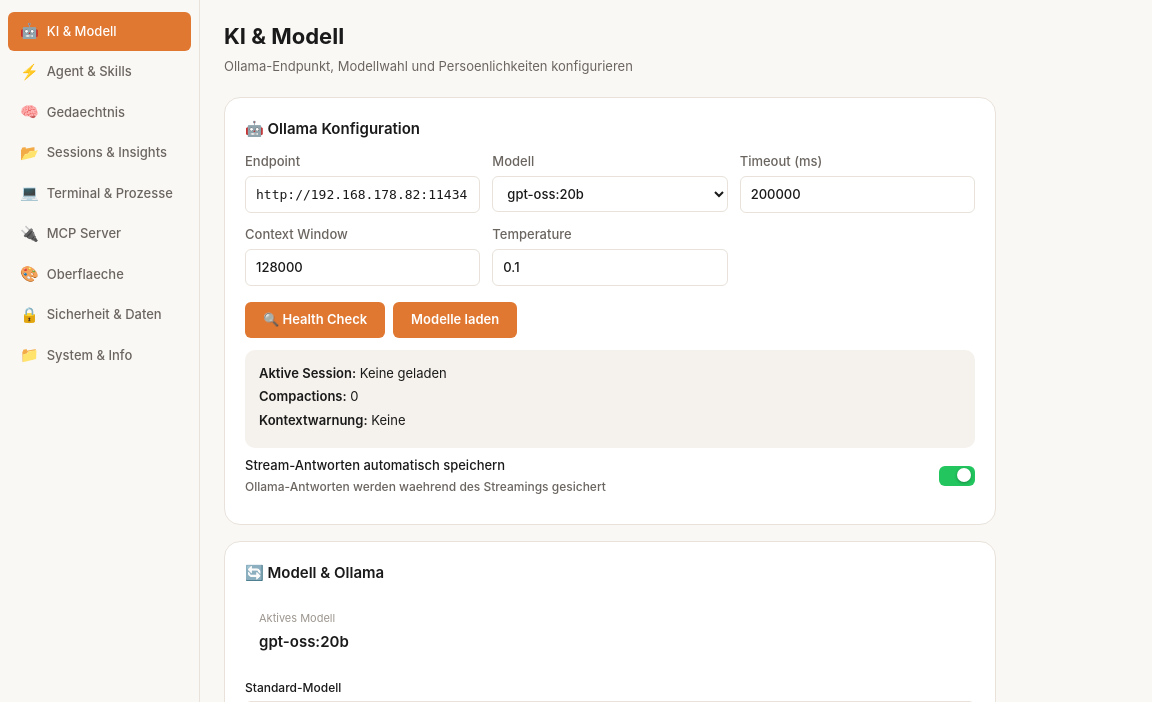
SettingsView › switches to Oberflaeche category
The width and height of the screenshot is (1152, 702).
Click the text "Oberflaeche". click: (85, 274)
box: [47,264,124,284]
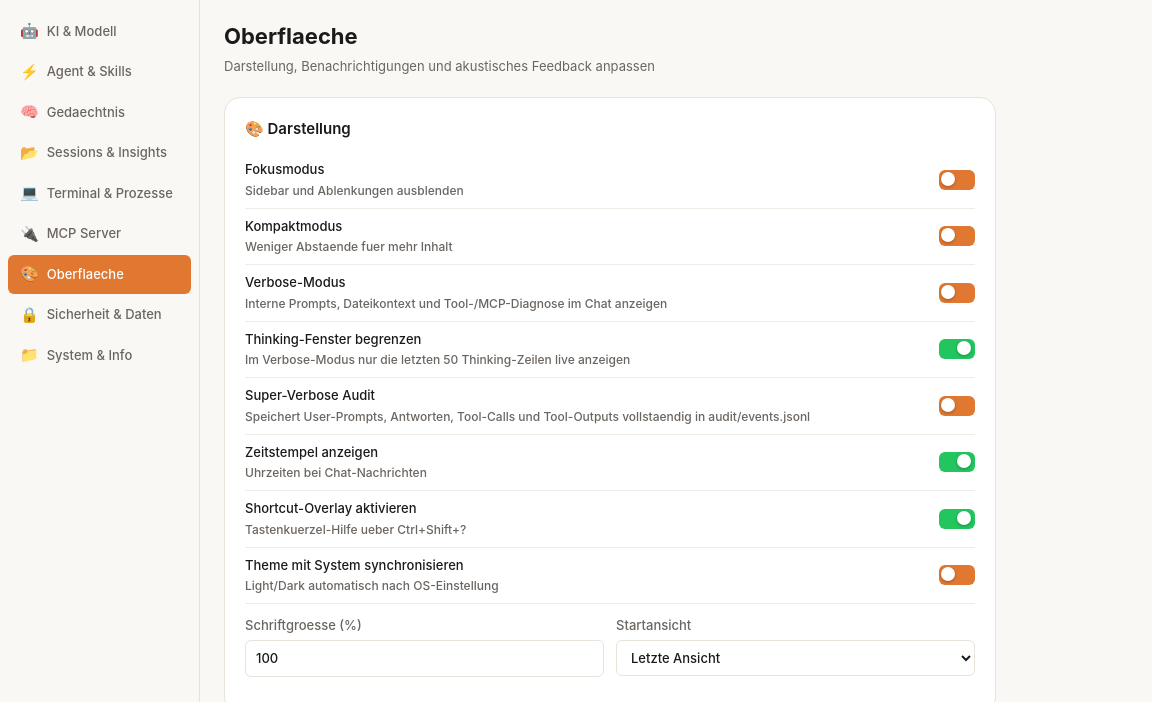
Expected: the heading "Oberflaeche" is shown, [224,23,358,49]
Expected: the text "Fokusmodus" is shown, [245,161,324,177]
Expected: the text "Kompaktmodus" is shown, [245,218,342,234]
